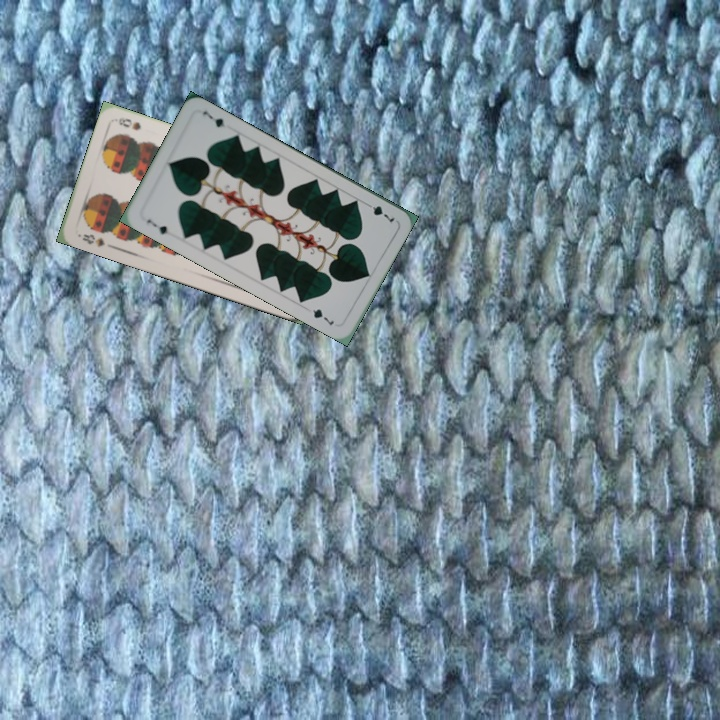G7: (361, 198, 397, 227), (143, 215, 174, 238)
S8: (78, 230, 107, 250)
